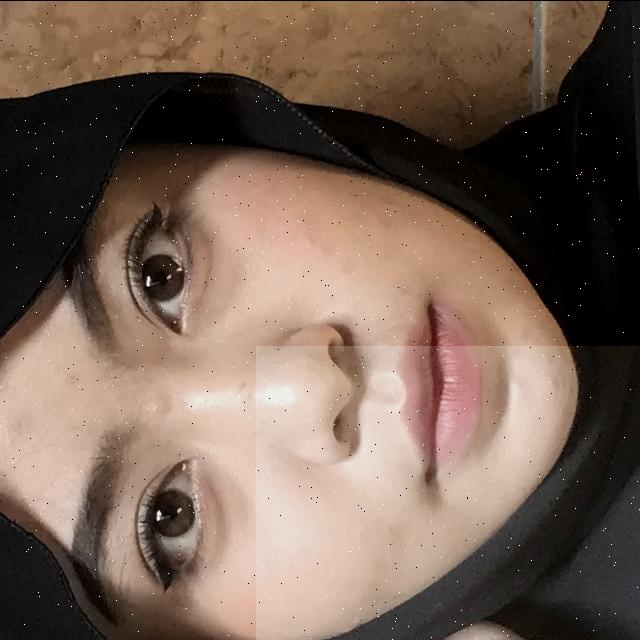ibu: (256, 345, 640, 640)
